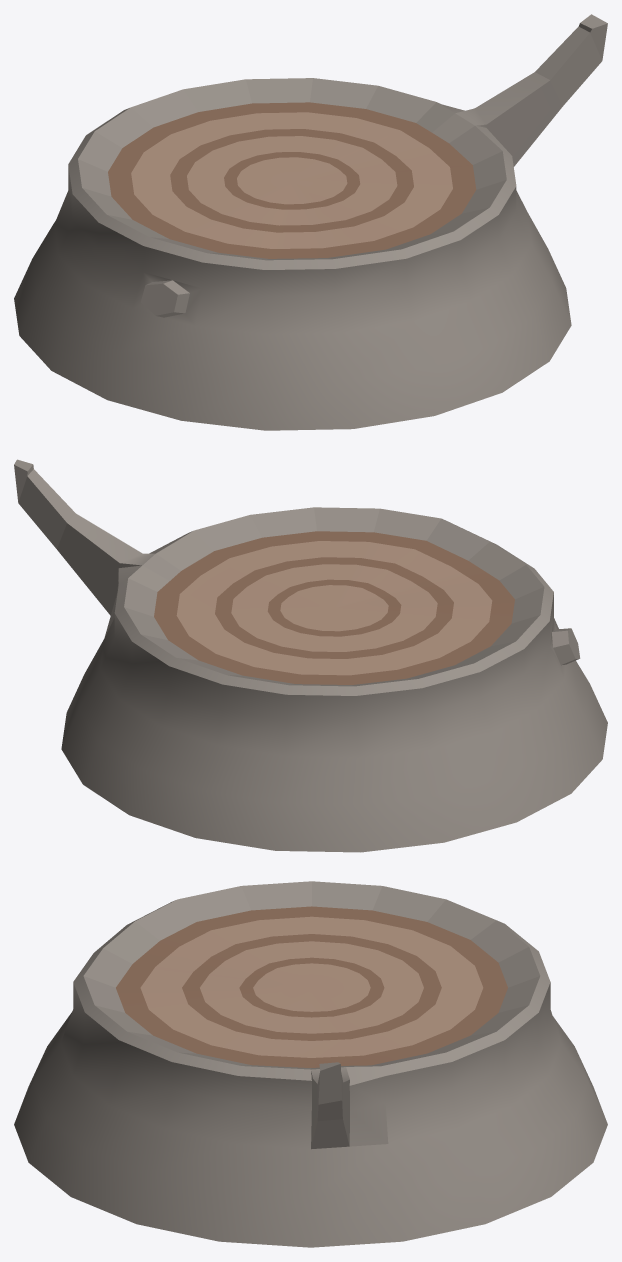
File: Stump.fbx
3 views of the same model, one above another, from view 1: azimuth 30°, elevation 25°; view 2: azimuth 150°, elevation 25°; view 3: azimuth 270°, elevation 25° (orthographic). The views are drawn at different scales.
Parts seen in each view (by area): view 1: pCylinder3; view 2: pCylinder3; view 3: pCylinder3.
Part boxes in pixels (bbox=[...]): pCylinder3: bbox=[14, 14, 607, 430]; pCylinder3: bbox=[14, 459, 607, 852]; pCylinder3: bbox=[14, 881, 607, 1247].
Size of the model in its own units: 836 by 300 by 733.
